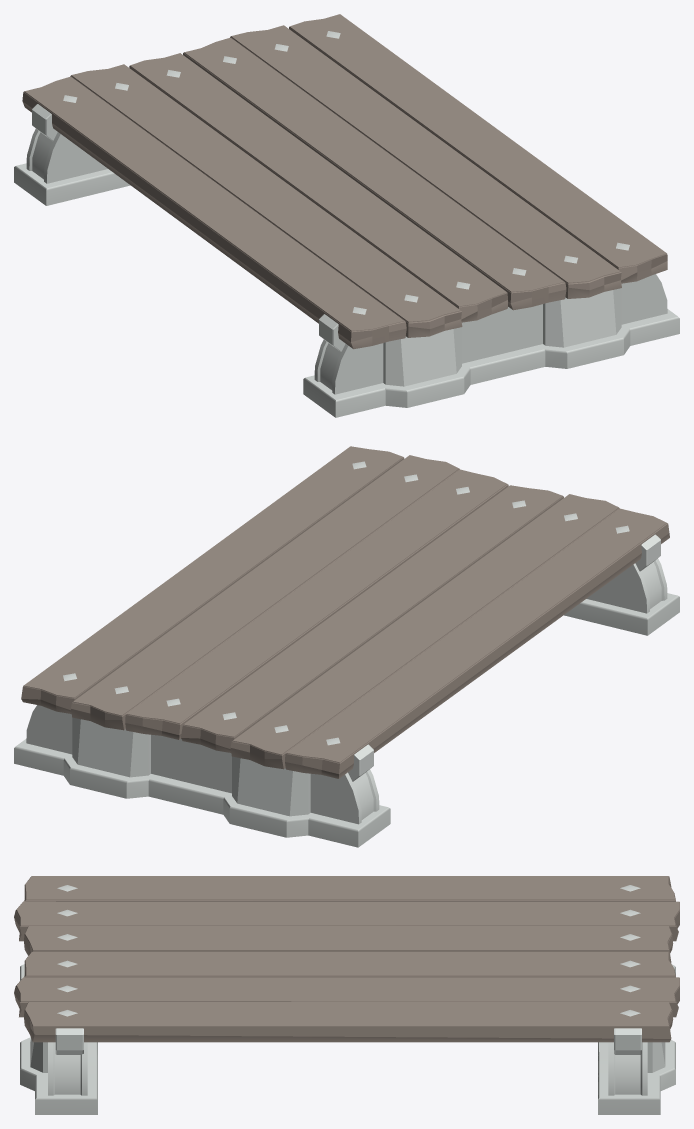
3 renders of one model, top to bottom at view 1: azimuth 30°, elevation 25°; view 2: azimuth 150°, elevation 25°; view 3: azimuth 270°, elevation 25°, orthographic. The views are drawn at different scales.
Visible parts, largest first — view 1: G:\FFXIV-MapTools\exports\n4f1\bg\ex3\01_nvt_n4\fld\n4f1\bgp (×2); view 2: G:\FFXIV-MapTools\exports\n4f1\bg\ex3\01_nvt_n4\fld\n4f1\bgp (×2); view 3: G:\FFXIV-MapTools\exports\n4f1\bg\ex3\01_nvt_n4\fld\n4f1\bgp (×2).
Part boxes in pixels (x1=…): G:\FFXIV-MapTools\exports\n4f1\bg\ex3\01_nvt_n4\fld\n4f1\bgp (×2): x1=14, y1=14, x2=679, y2=417; G:\FFXIV-MapTools\exports\n4f1\bg\ex3\01_nvt_n4\fld\n4f1\bgp (×2): x1=14, y1=446, x2=679, y2=847; G:\FFXIV-MapTools\exports\n4f1\bg\ex3\01_nvt_n4\fld\n4f1\bgp (×2): x1=14, y1=876, x2=679, y2=1114.
Bounding box in the file's own units: 1.72 × 0.412 × 2.97.
